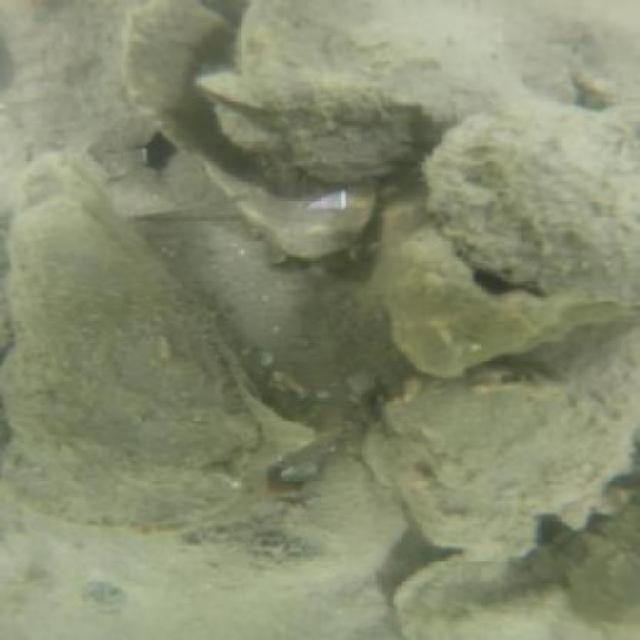Oyster-Closed: (6, 169, 256, 531)
Oyster-Indeterminate: (118, 0, 377, 263), (230, 0, 575, 169), (407, 325, 638, 554), (425, 105, 627, 304), (192, 453, 392, 578)
